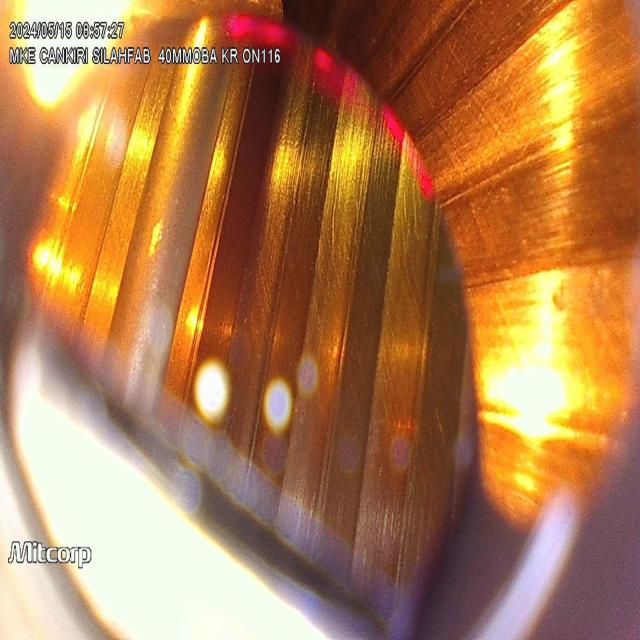hata_8.1: (262, 93, 448, 284)
